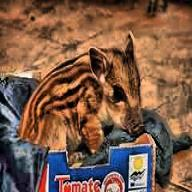boar: (0, 22, 168, 155)
